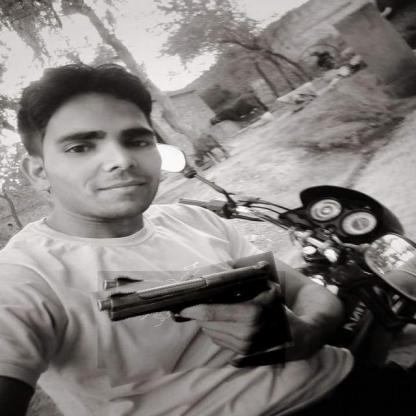handgun: (93, 262, 290, 378)
